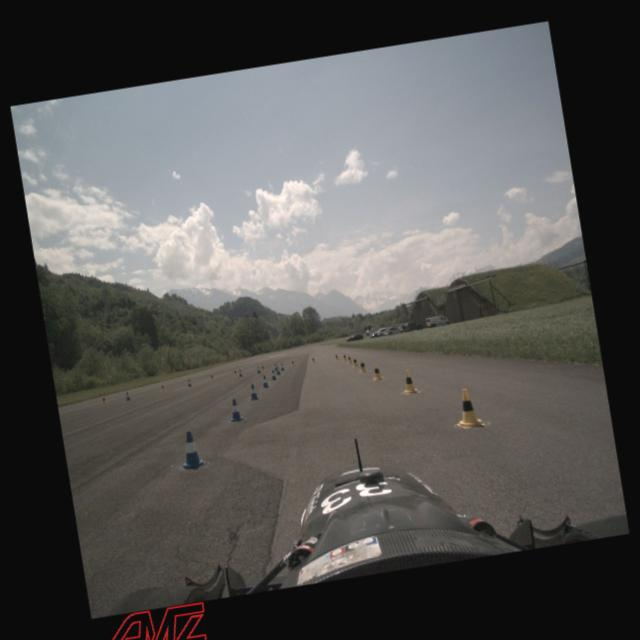blue_cone: (176, 428, 208, 472), (226, 398, 245, 423), (247, 382, 260, 402), (260, 374, 270, 389), (270, 369, 278, 381), (124, 392, 132, 402), (276, 366, 282, 376), (256, 365, 262, 374), (186, 378, 192, 387), (280, 362, 285, 371), (238, 369, 243, 377), (274, 363, 278, 371)
yellow_cone: (450, 386, 486, 430), (399, 368, 420, 396), (371, 362, 384, 382), (357, 358, 367, 373), (351, 356, 359, 368), (100, 394, 107, 404), (209, 372, 215, 382), (160, 382, 166, 392), (342, 352, 348, 361), (347, 354, 352, 364), (334, 352, 339, 362), (232, 368, 238, 376), (260, 364, 265, 372), (290, 359, 295, 366), (311, 356, 315, 363)
